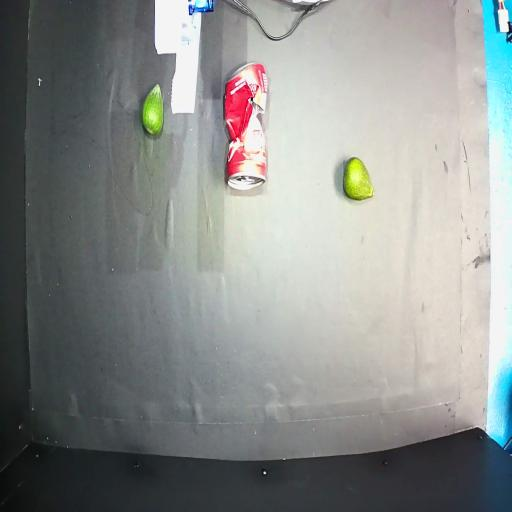higo: (225, 77, 267, 188), (342, 157, 374, 201), (141, 84, 164, 134)
lata_defectuoso: (225, 64, 268, 190)
